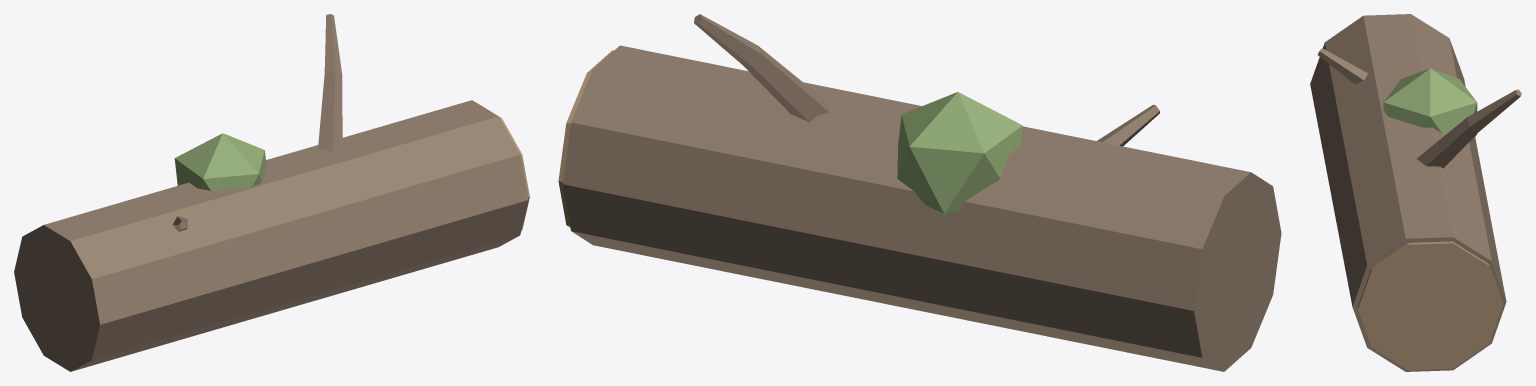
Rendered from wood_node.glb.
The picture shows the model from 3 angles, left to right: view 1: azimuth 30°, elevation 25°; view 2: azimuth 150°, elevation 25°; view 3: azimuth 270°, elevation 25°; orthographic projection. The views are drawn at different scales.
Parts seen in each view (by area): view 1: wood_node; view 2: wood_node; view 3: wood_node.
Boxes of the visible parts, x1,y1,x2,y2 form: wood_node: (14, 14, 529, 371); wood_node: (558, 14, 1281, 371); wood_node: (1310, 14, 1521, 371).
Bounding box in the file's own units: 2.47 × 1.13 × 0.959.
